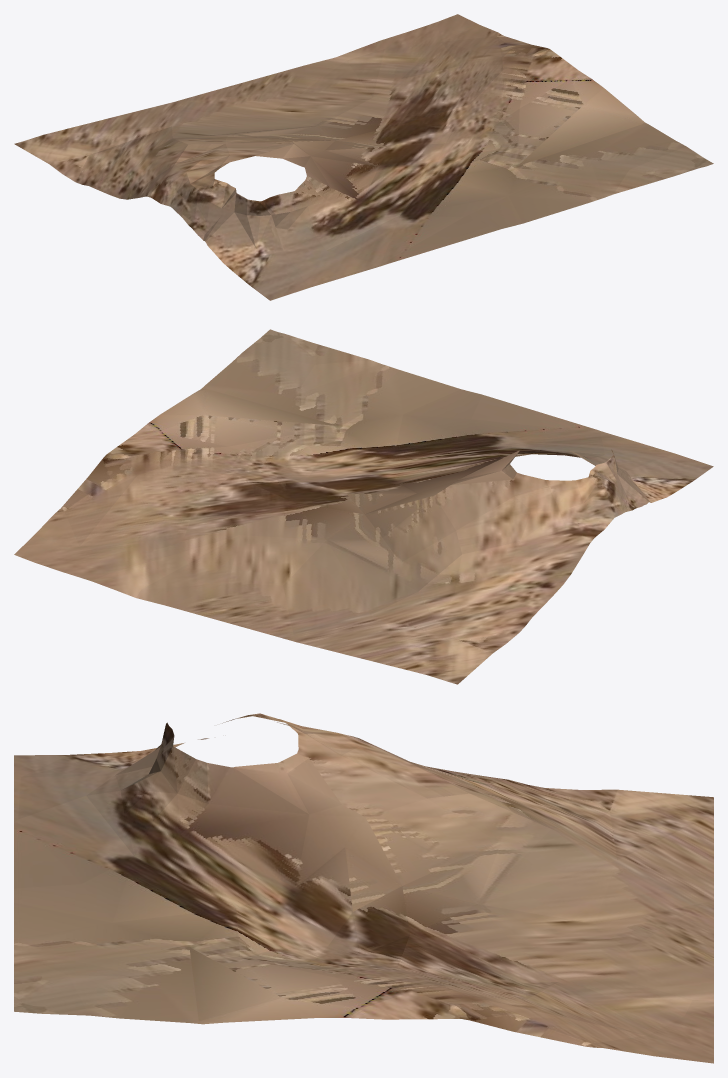
3 views of the same model, one above another, from view 1: azimuth 30°, elevation 25°; view 2: azimuth 150°, elevation 25°; view 3: azimuth 270°, elevation 25° (orthographic). The views are drawn at different scales.
Bounding box in the file's own units: 1.04 × 0.1745 × 1.04.
3 materials, 3 textured.
